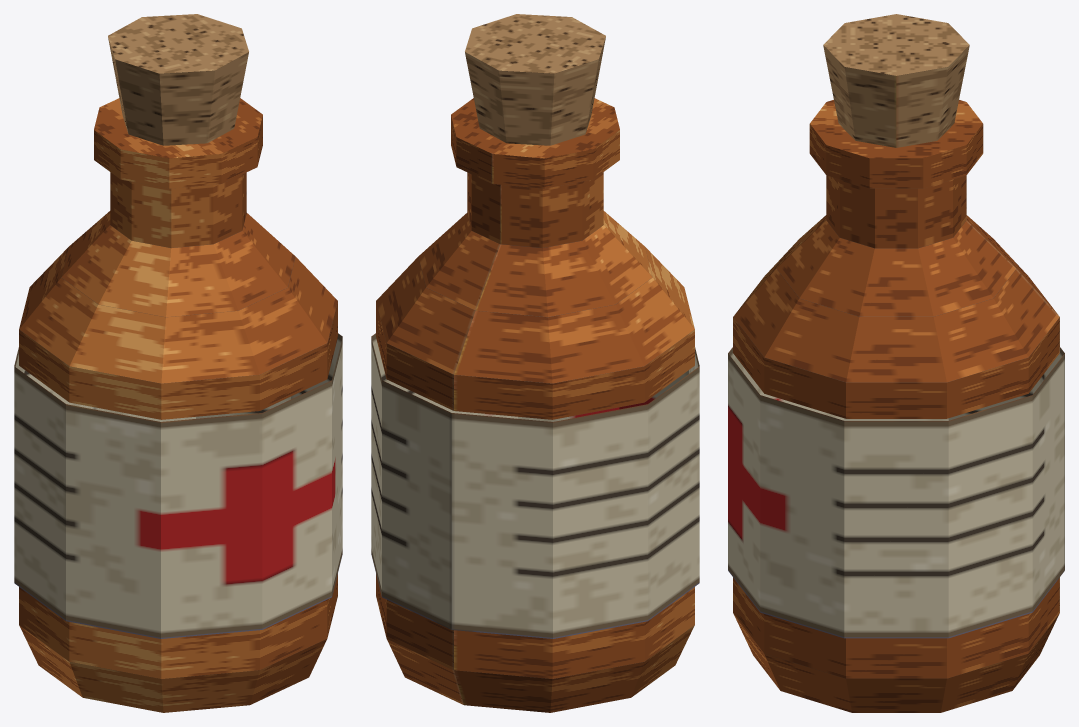
Rendered from Item_Medicine.fbx.
3 views of the same model, side by side, from view 1: azimuth 30°, elevation 25°; view 2: azimuth 150°, elevation 25°; view 3: azimuth 270°, elevation 25° (orthographic).
Visible parts, largest first — view 1: Item_Medicine; view 2: Item_Medicine; view 3: Item_Medicine.
Part boxes in pixels (left/top/right/bottom): Item_Medicine: left=14, top=14, right=342, bottom=712; Item_Medicine: left=371, top=14, right=699, bottom=712; Item_Medicine: left=728, top=14, right=1064, bottom=712.
Bounding box in the file's own units: 9.61 × 20.2 × 10.1.
